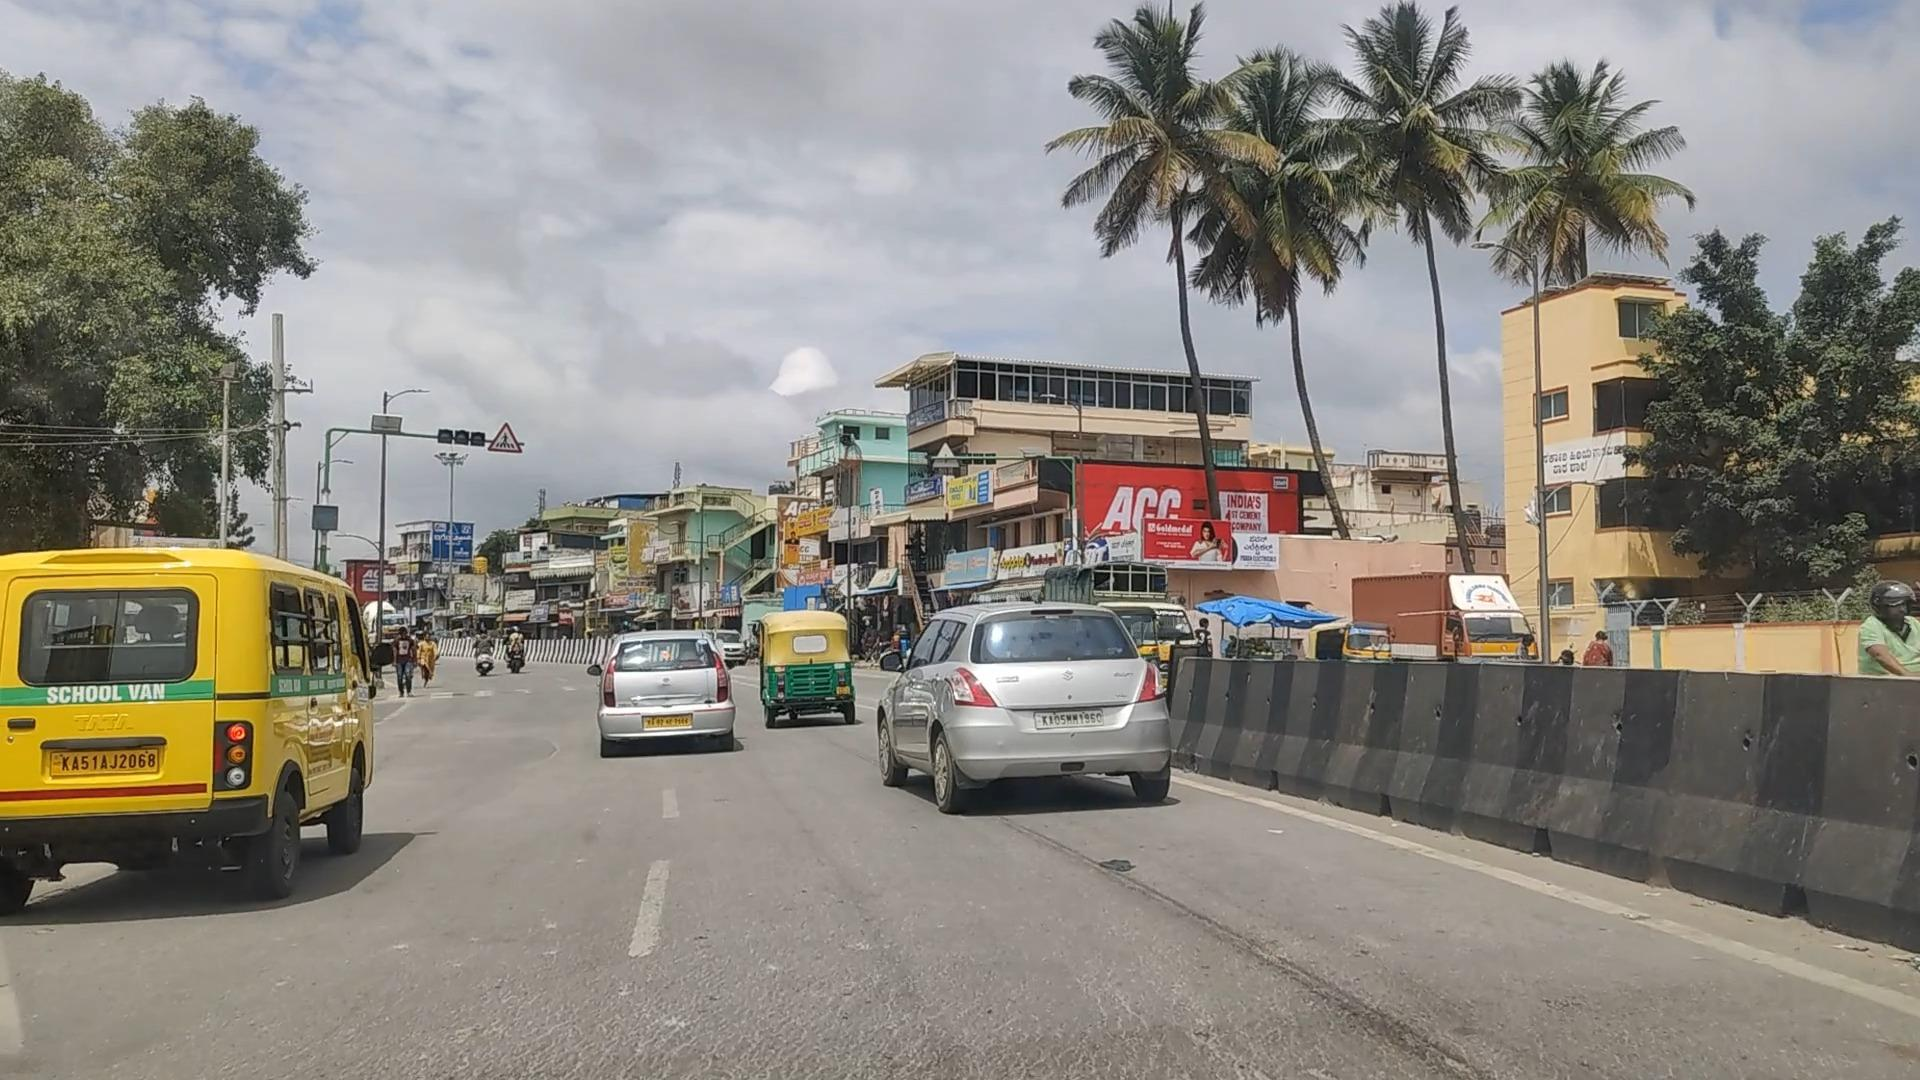LMV: (0, 463, 384, 926), (864, 580, 1199, 833), (571, 601, 762, 806), (737, 595, 895, 795)
